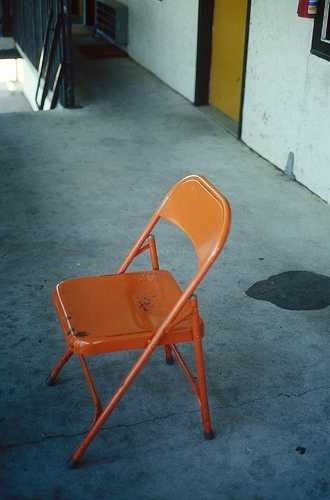obstacle: (49, 175, 230, 465)
